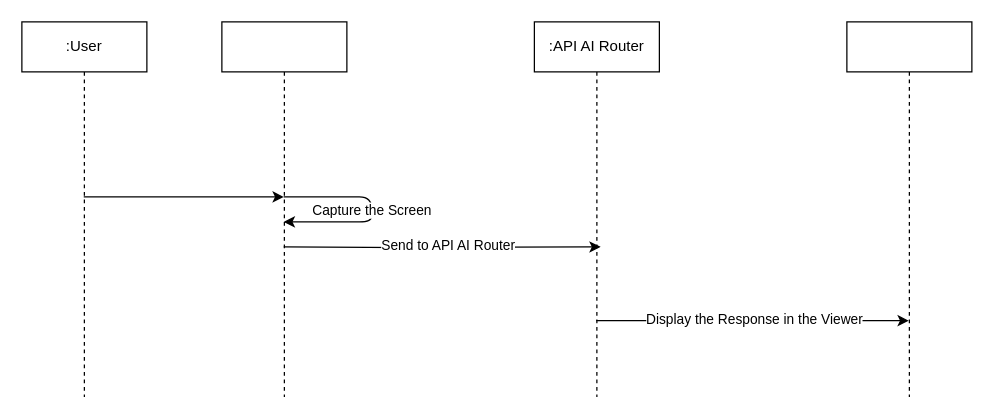
Image size: 994x419. Some labels were removed from this diagram. The shapes that lost their labels are listed below. From the top down, each one's box as (x1, y1, x2, y2) in pixels, then its label:
(221, 21, 347, 397): :OSX Client
(846, 21, 972, 397): :OSX Viewer
